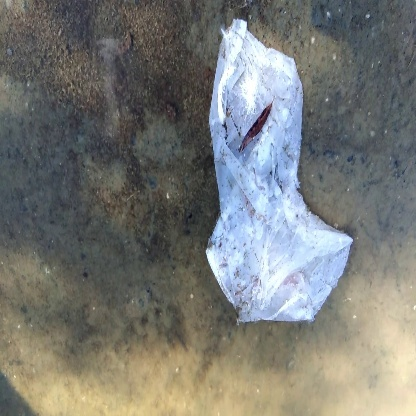plastic-bag: (202, 16, 354, 323)
